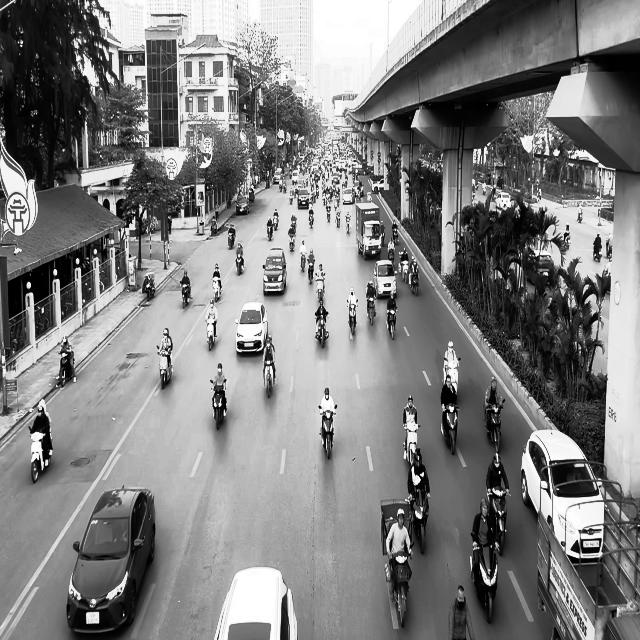car: (66, 486, 156, 636), (520, 428, 605, 564), (214, 566, 298, 639), (234, 300, 268, 355), (262, 248, 287, 294), (373, 260, 398, 298), (236, 196, 249, 214)
motorbike: (469, 536, 498, 624), (386, 548, 413, 628), (28, 425, 53, 483), (488, 487, 509, 555), (406, 492, 429, 554), (483, 398, 505, 453), (318, 404, 337, 459), (440, 403, 459, 454), (210, 378, 227, 430), (55, 350, 76, 388), (156, 345, 173, 389), (403, 423, 420, 466), (443, 357, 460, 394), (314, 311, 329, 349), (263, 358, 275, 398), (205, 317, 217, 351), (386, 307, 397, 340), (347, 300, 357, 335), (143, 272, 155, 300), (180, 280, 191, 309), (366, 295, 376, 325), (212, 275, 221, 302), (316, 278, 324, 304), (235, 252, 244, 275), (593, 242, 602, 262), (288, 228, 295, 251), (563, 230, 571, 249), (308, 259, 314, 284), (228, 230, 235, 250), (210, 218, 218, 235), (267, 222, 273, 241)
truck: (355, 202, 382, 260)
